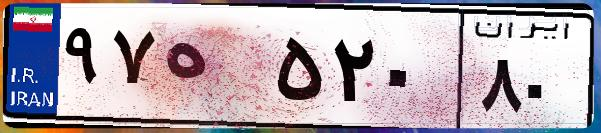0: (385, 28, 445, 110), (525, 38, 570, 115)
2: (330, 28, 385, 110)
5: (270, 28, 330, 110)
7: (110, 28, 158, 98)
8: (475, 38, 525, 113)
9: (57, 26, 110, 100)
ه: (158, 20, 270, 120)
